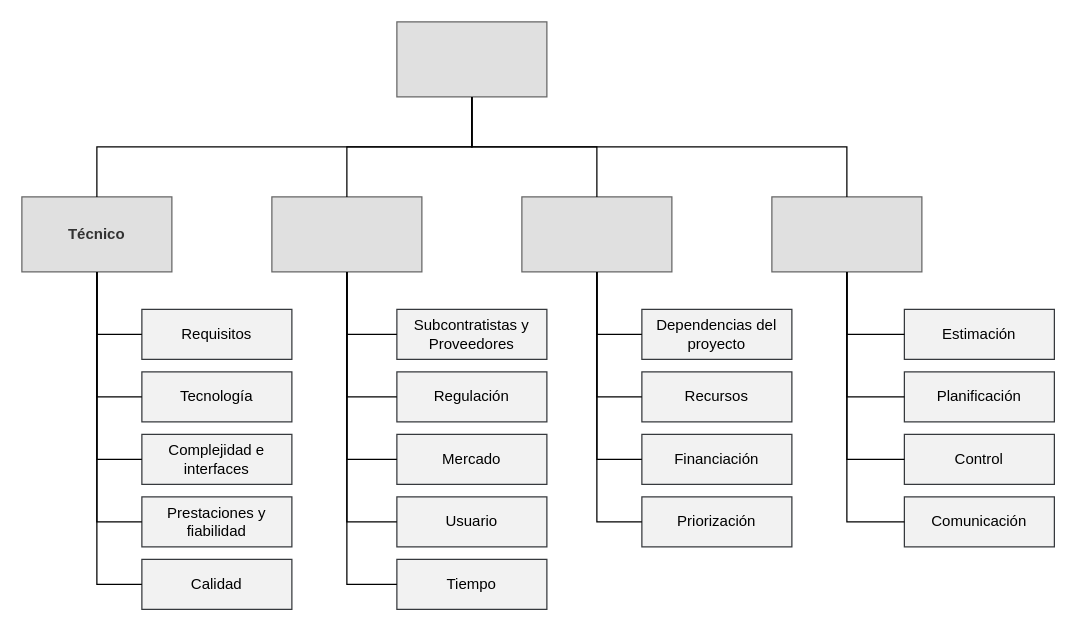
The diagram is 1076 pixels wide and 631 high, and some of its shapes have lost their labels. The centre of each missing label's shape, as x and y in pixels:
Externo: [346,234]
Gestión de Proyecto: [846,234]
Organizacional: [596,234]
Proyecto: [471,59]
